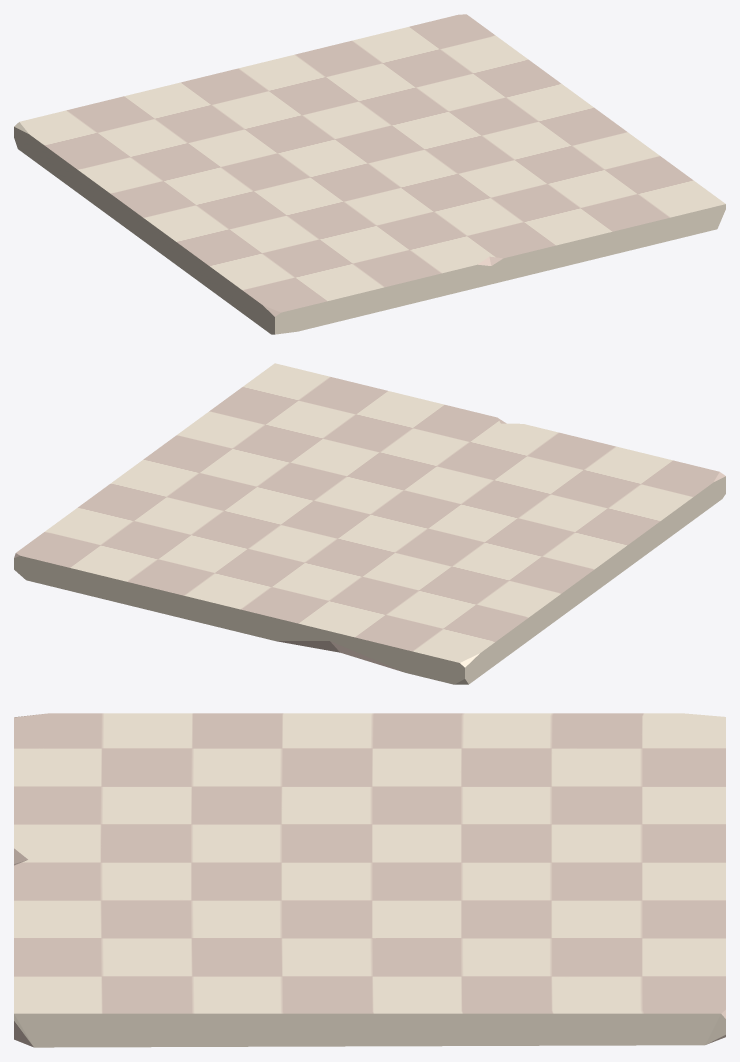
Rendered from SR_Floor_01.fbx.
3 renders of one model, top to bottom at view 1: azimuth 30°, elevation 25°; view 2: azimuth 150°, elevation 25°; view 3: azimuth 270°, elevation 25°, orthographic. The views are drawn at different scales.
Visible parts, largest first — view 1: SR_Floor_01; view 2: SR_Floor_01; view 3: SR_Floor_01.
Boxes of the visible parts, x1,y1,x2,y2 form: SR_Floor_01: (14,14,725,334); SR_Floor_01: (14,363,725,684); SR_Floor_01: (14,713,725,1047).
Bounding box in the file's own units: 1002 × 51.58 × 1002.
